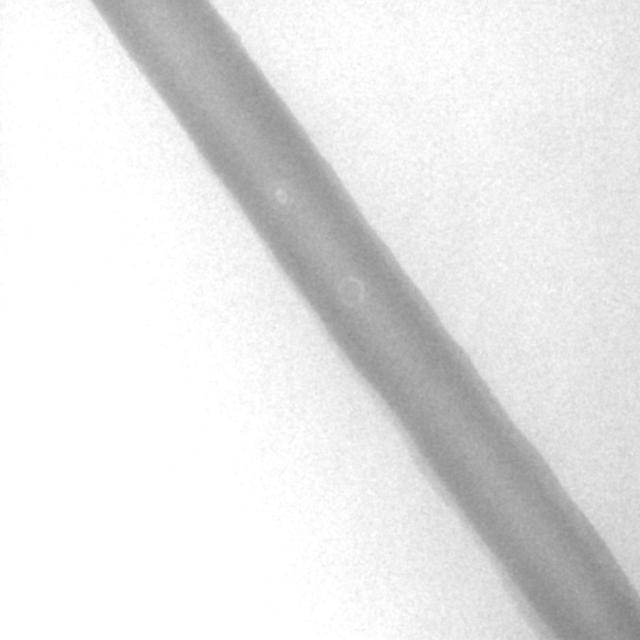hollow bead: (335, 274, 365, 309)
